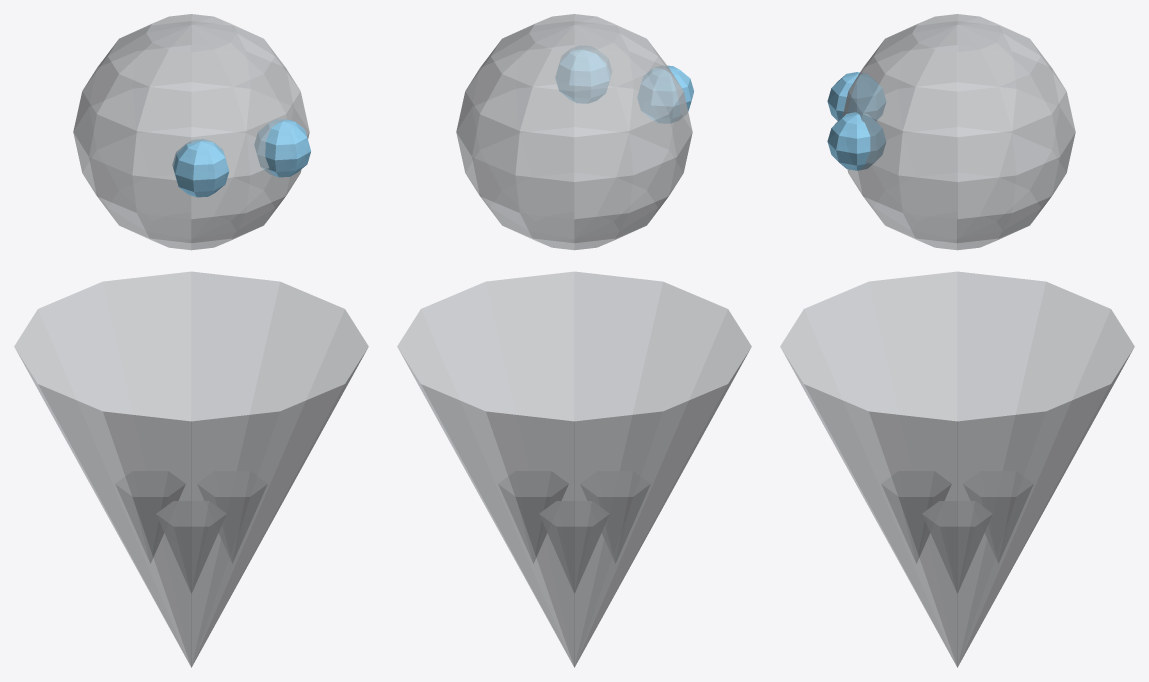
Rendered from ghost.glb.
3 views of the same model, side by side, from view 1: azimuth 30°, elevation 25°; view 2: azimuth 150°, elevation 25°; view 3: azimuth 270°, elevation 25° (orthographic).
Visible parts, largest first — view 1: GhostBody, GhostHead, Tendril_2, Tendril_0, Tendril_1, LeftEye, RightEye; view 2: GhostBody, GhostHead, Tendril_1, Tendril_0, Tendril_2, LeftEye, RightEye; view 3: GhostBody, GhostHead, Tendril_0, Tendril_1, Tendril_2, RightEye, LeftEye.
Boxes of the visible parts, x1,y1,x2,y2 form: GhostBody: (14, 271, 368, 667); GhostHead: (73, 14, 309, 250); Tendril_2: (156, 501, 226, 592); Tendril_0: (197, 471, 267, 563); Tendril_1: (115, 471, 185, 563); LeftEye: (172, 139, 229, 197); RightEye: (254, 119, 311, 177); GhostBody: (397, 271, 751, 667); GhostHead: (456, 14, 692, 250); Tendril_1: (539, 501, 609, 592); Tendril_0: (498, 471, 568, 563); Tendril_2: (580, 471, 650, 563); LeftEye: (637, 65, 694, 123); RightEye: (555, 46, 611, 103); GhostBody: (780, 271, 1134, 667); GhostHead: (842, 14, 1075, 250); Tendril_0: (922, 501, 992, 592); Tendril_1: (963, 471, 1033, 563); Tendril_2: (881, 471, 951, 563); RightEye: (827, 112, 886, 170); LeftEye: (827, 72, 886, 120).
Size of the model in its own units: 0.6 by 1.2 by 0.6.
